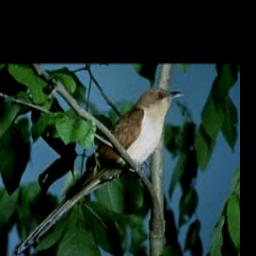Cuckoo: (12, 85, 190, 256)
